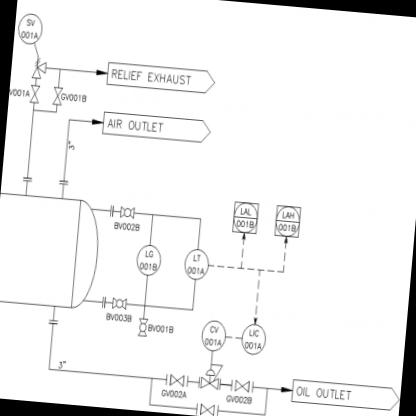LMI: (198, 313, 228, 353), (16, 11, 46, 46), (134, 244, 164, 278), (181, 248, 210, 281), (240, 323, 269, 356)
TAG: (229, 194, 263, 235), (274, 202, 304, 238)
